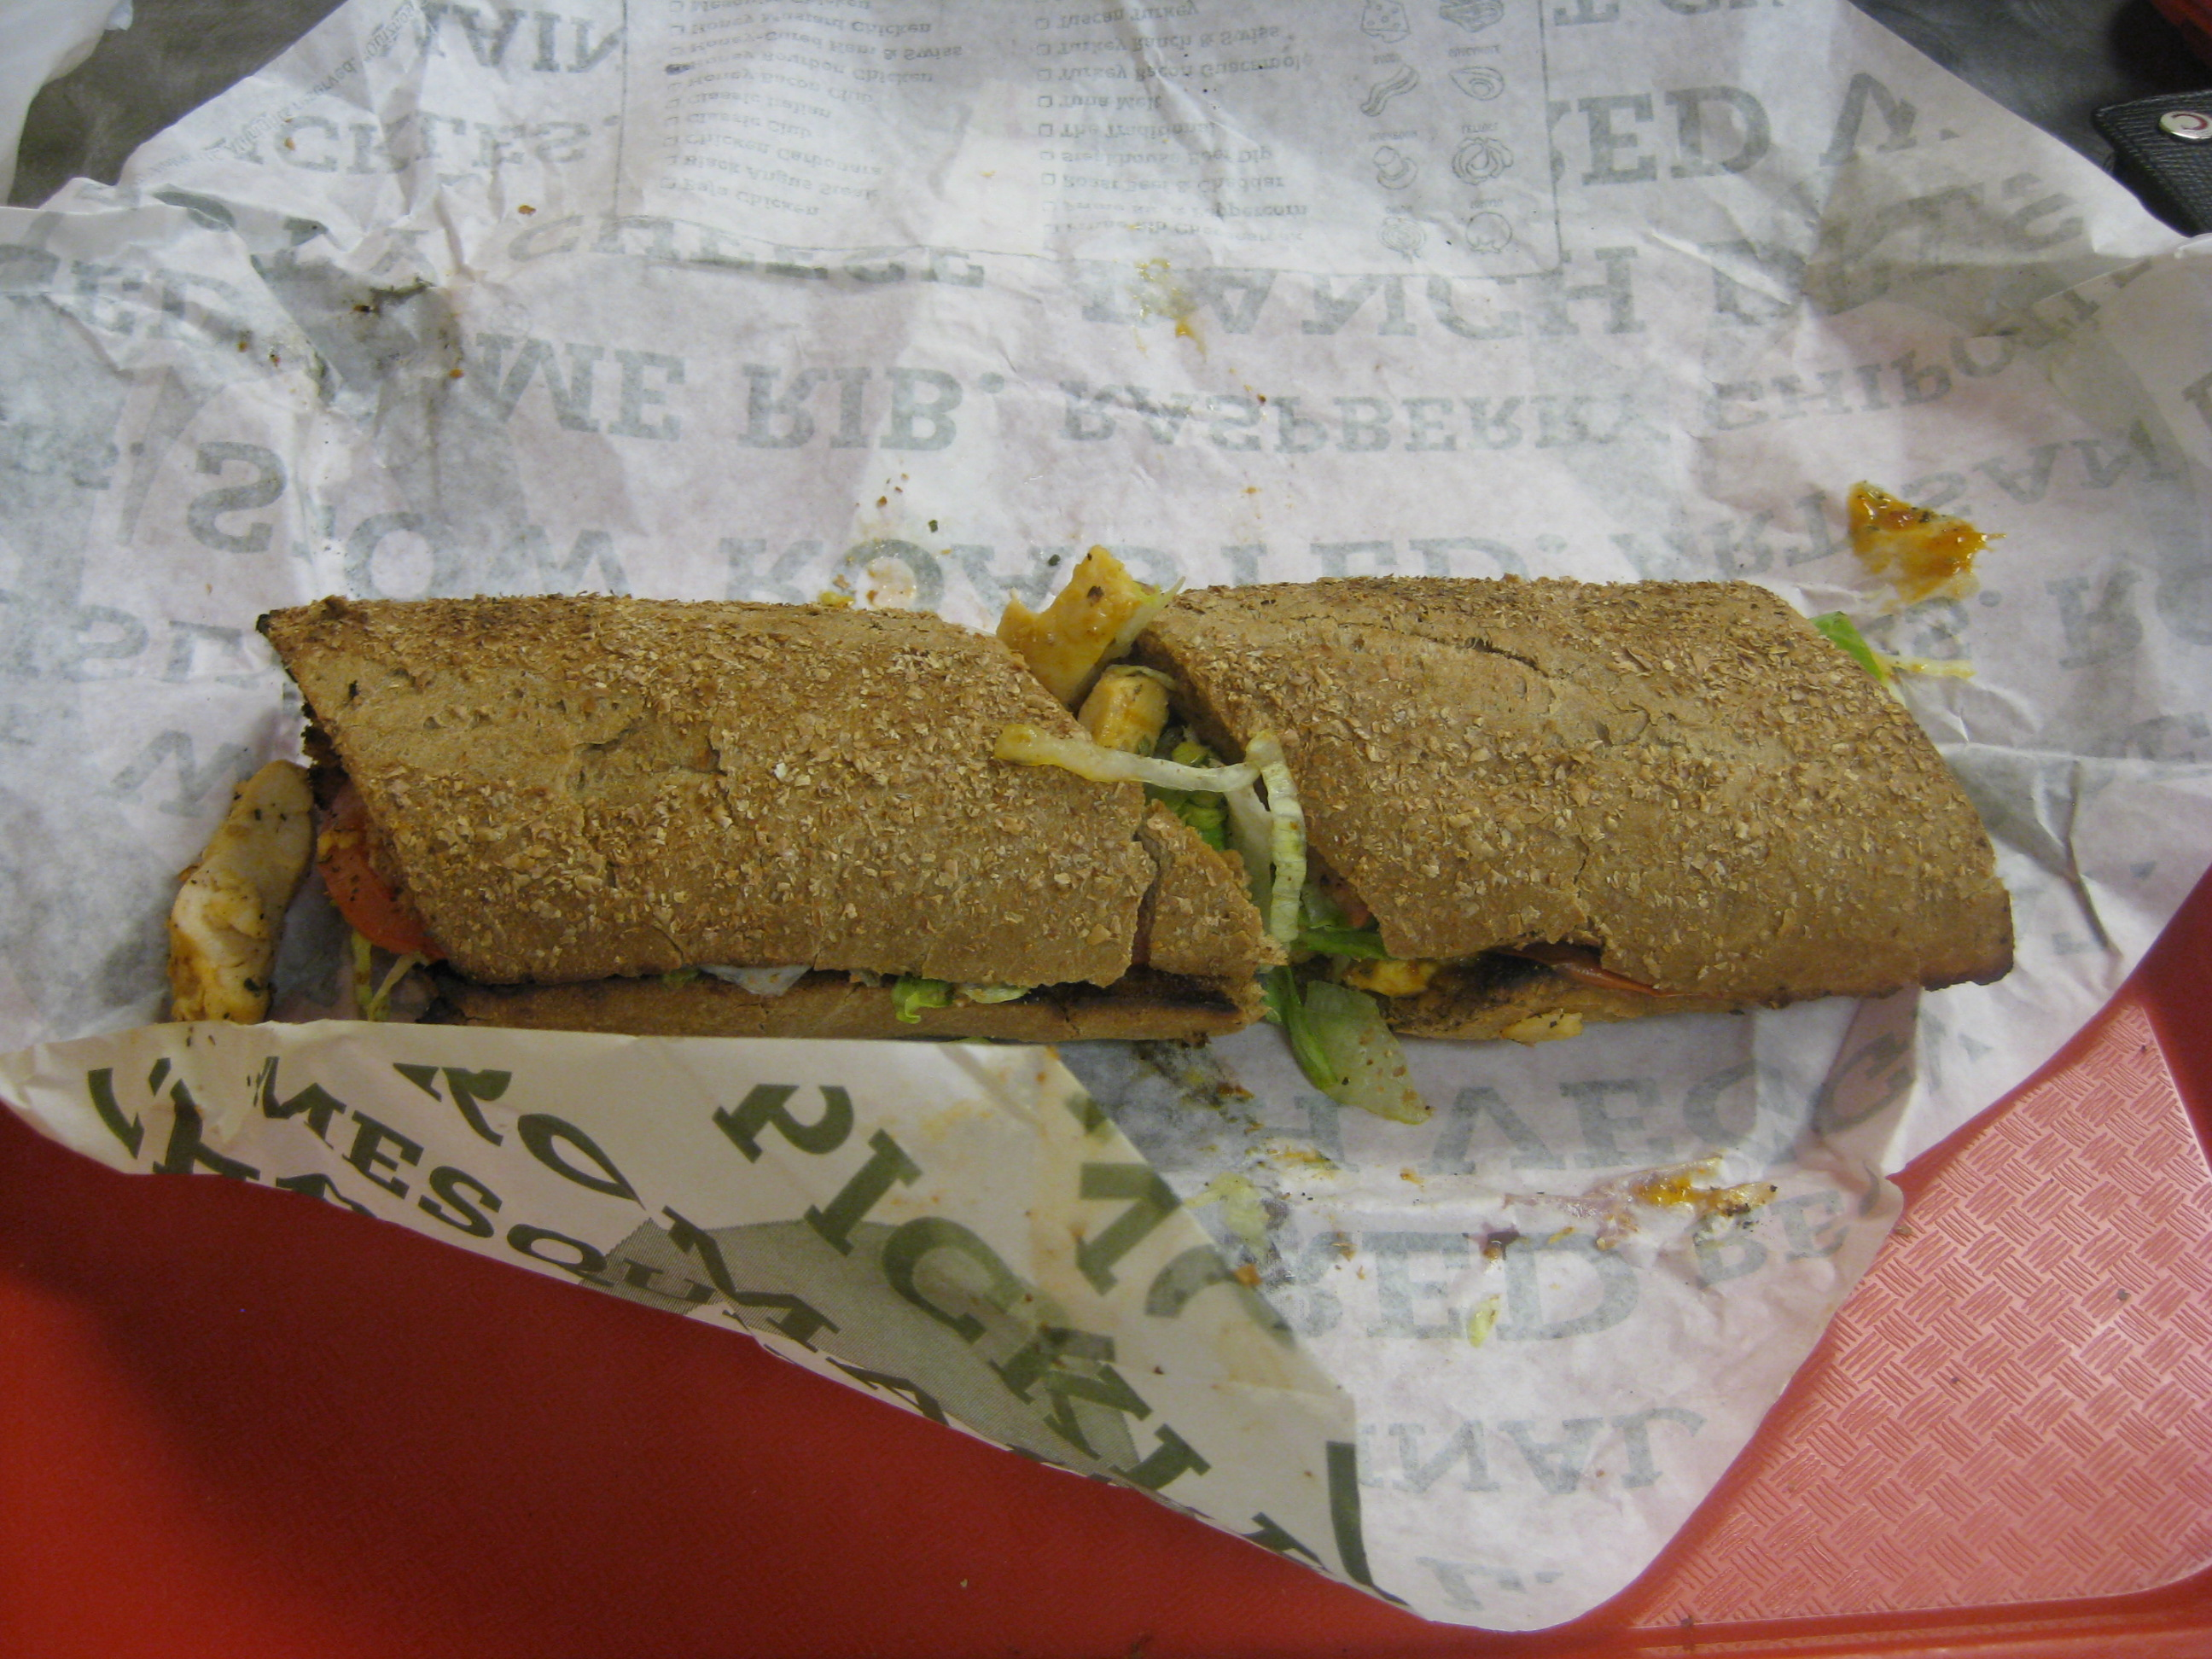sub: (234, 481, 2084, 1154)
